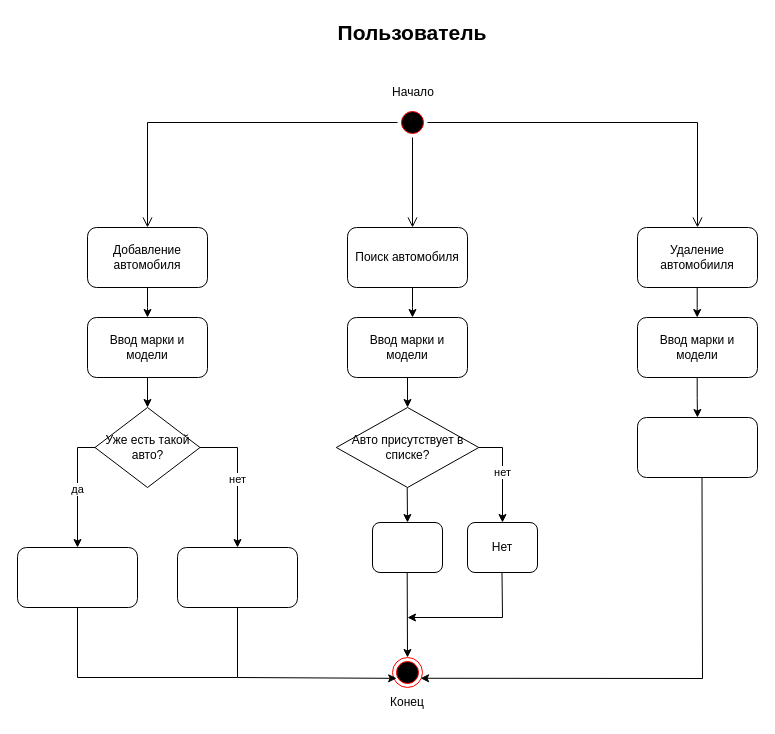
This 775x734 diagram has some shape labels left out. Here are the shapes that lost their labels. From the top down, the centre of each, then its label:
(697,447): "Автомобиль удален"
(407,547): Есть
(77,577): "Автомобиль уже существует"
(237,577): "Автомобиль добавлен"
